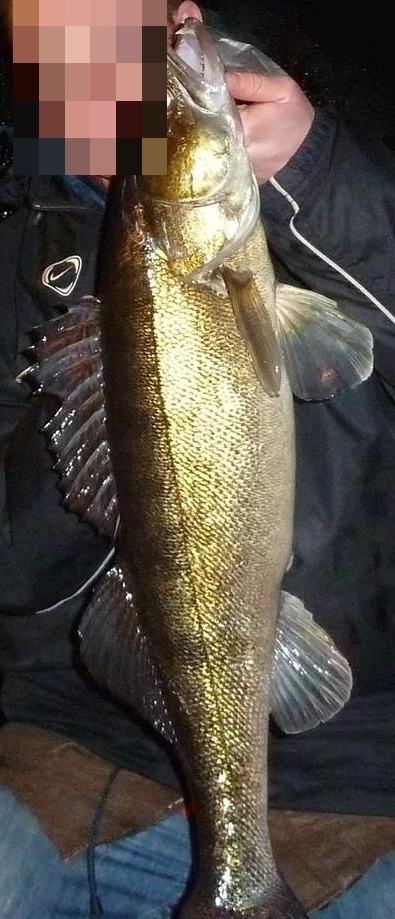Sander lucioperca: (20, 20, 375, 917)
